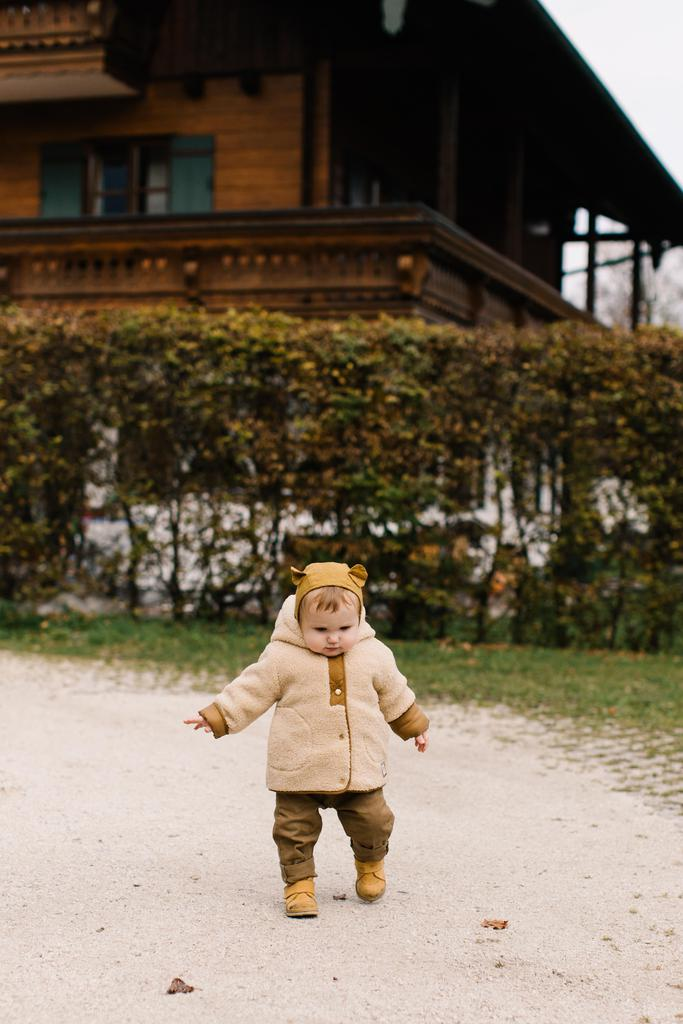child: (181, 542, 447, 925)
